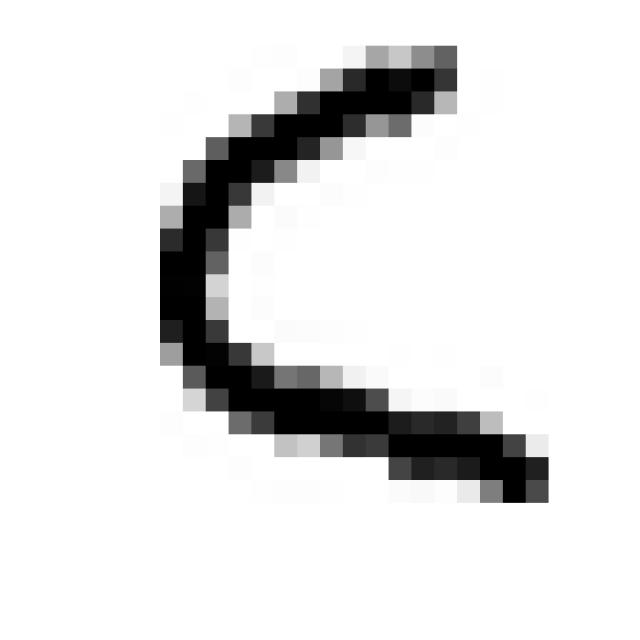2 -two-: (124, 23, 574, 525)
